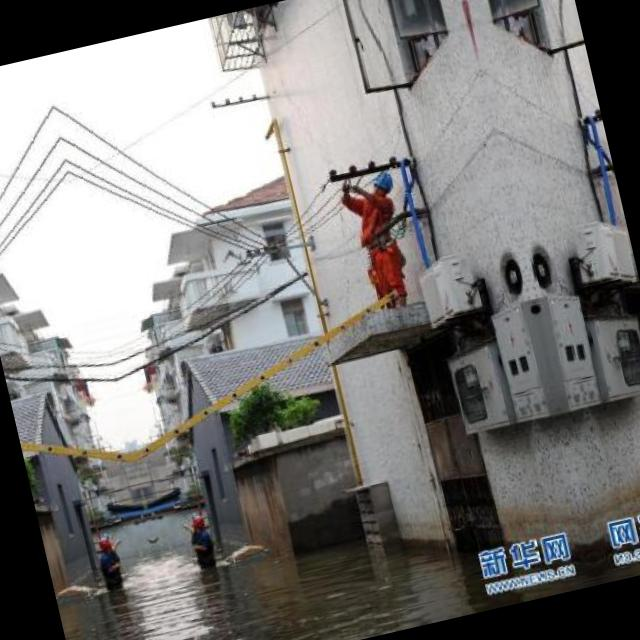helmet: (362, 168, 395, 202), (185, 509, 207, 532), (92, 531, 114, 553)
